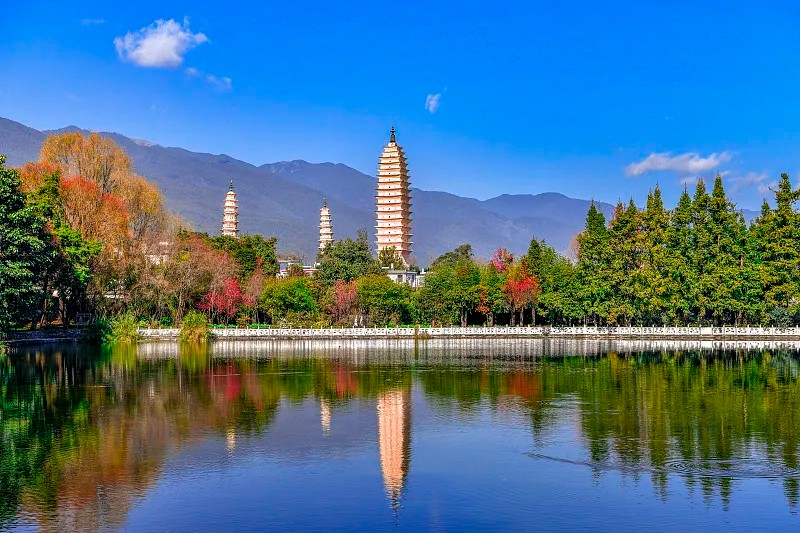ThreePagoda: (374, 124, 413, 263)
